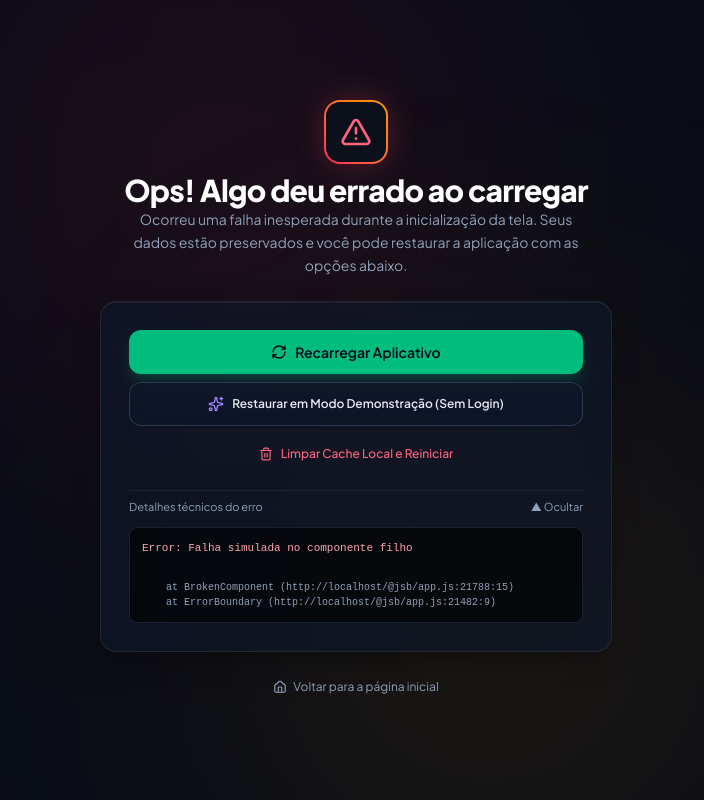
Scenario: ErrorBoundary › permite alternar a visualização dos detalhes técnicos
Expected: the text "Falha simulada no componente filho" is shown, x1=142 y1=542 x2=413 y2=554
Click the text "Detalhes técnicos do erro": (196, 507) x1=129 y1=499 x2=263 y2=515
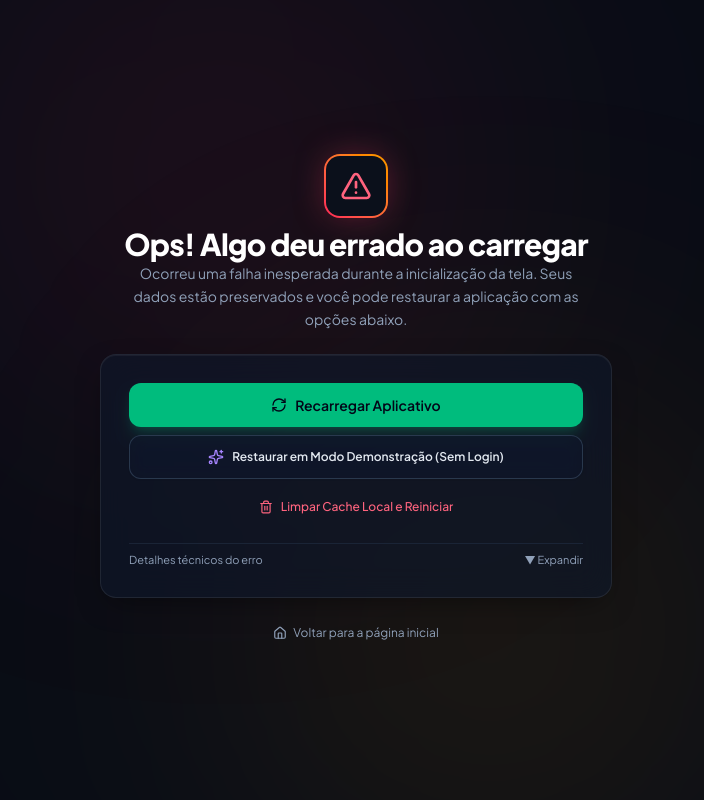
Result: the text "Falha simulada no componente filho" is gone
